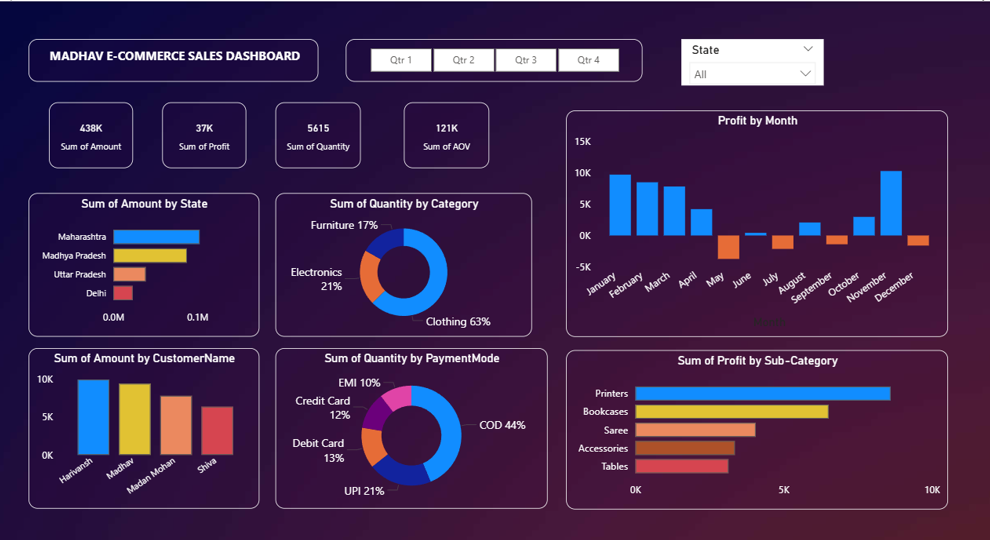

What the dashboard file says about the page in this screenshot:
{"tool":"powerbi","page":{"name":"Page 1","canvas":[1280,720],"ordinal":0},"visuals":[{"type":"columnChart","title":"Profit by Month","fields":{"Y":["Details.Profit"],"Category":["Orders.Order Date.Variation.Date Hierarchy.Month"]},"box":[705.4,133.5,468.7,278],"z":0},{"type":"barChart","fields":{"Category":["Details.Sub-Category"],"Y":["Details.Profit"]},"box":[705.4,427.4,468.7,195.4],"z":1000},{"type":"donutChart","fields":{"Category":["Details.PaymentMode","Details.Category"],"Y":["Details.Quantity"]},"box":[349.5,425.8,333.6,197],"z":2000},{"type":"donutChart","fields":{"Y":["Details.Quantity"],"Category":["Details.Category"]},"box":[349.5,235.1,314.6,176.4],"z":3000},{"type":"barChart","fields":{"Category":["Orders.State"],"Y":["Details.Amount"]},"box":[46.1,235.1,282.8,176.4],"z":4000},{"type":"columnChart","fields":{"Category":["Orders.CustomerName"],"Y":["Details.Amount"]},"box":[46.1,425.8,282.8,197],"z":5000},{"type":"card","fields":{"Values":["Details.Amount"]},"box":[71.5,123.9,103.3,81],"z":6000},{"type":"card","fields":{"Values":["Details.AOV"]},"box":[506.8,123.9,104.9,81],"z":7000},{"type":"card","fields":{"Values":["Details.Profit"]},"box":[209.7,123.9,103.3,81],"z":8000},{"type":"card","fields":{"Values":["Details.Quantity"]},"box":[349.5,123.9,104.9,81],"z":9000},{"type":"textbox","box":[46,46,355.6,52.4],"z":10000},{"type":"slicer","fields":{"Values":["Orders.Order Date.Variation.Date Hierarchy.Quarter"]},"box":[435.3,46.1,363.8,52.4],"z":11000},{"type":"slicer","fields":{"Values":["Orders.State"]},"box":[846.8,46.1,174.8,57.2],"z":12000}]}

Visuals, with their boxes on the page's 1280x720 design canvas (x1, y1, x2, y2). These are canvas units, not pixel positions in the 990x540 screenshot, which may show the page scaled, cropped or inside an application window:
"Profit by Month" columnChart: x1=705, y1=134, x2=1174, y2=412
barChart - Details.Sub-Category x Details.Profit: x1=705, y1=427, x2=1174, y2=623
donutChart - Details.PaymentMode x Details.Category: x1=350, y1=426, x2=683, y2=623
donutChart - Details.Quantity x Details.Category: x1=350, y1=235, x2=664, y2=412
barChart - Orders.State x Details.Amount: x1=46, y1=235, x2=329, y2=412
columnChart - Orders.CustomerName x Details.Amount: x1=46, y1=426, x2=329, y2=623
card - Details.Amount: x1=72, y1=124, x2=175, y2=205
card - Details.AOV: x1=507, y1=124, x2=612, y2=205
card - Details.Profit: x1=210, y1=124, x2=313, y2=205
card - Details.Quantity: x1=350, y1=124, x2=454, y2=205
textbox: x1=46, y1=46, x2=402, y2=98
slicer - Orders.Order Date.Variation.Date Hierarchy.Quarter: x1=435, y1=46, x2=799, y2=98
slicer - Orders.State: x1=847, y1=46, x2=1022, y2=103
